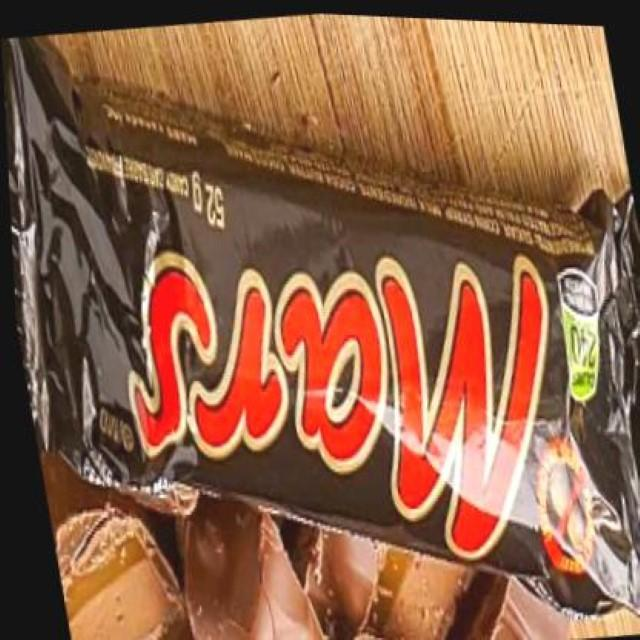mars_chocolate: (75, 125, 640, 575)
